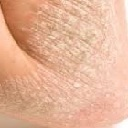Psoriasis: (34, 5, 112, 63), (27, 76, 89, 116)
